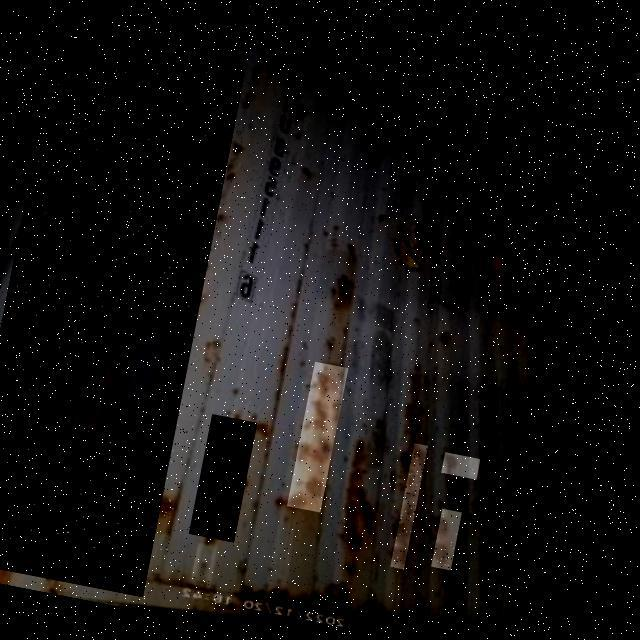Rust: (0, 0, 256, 568), (129, 385, 200, 559), (285, 362, 348, 513), (189, 415, 257, 543), (390, 444, 428, 570), (431, 509, 462, 571), (441, 452, 480, 480)
